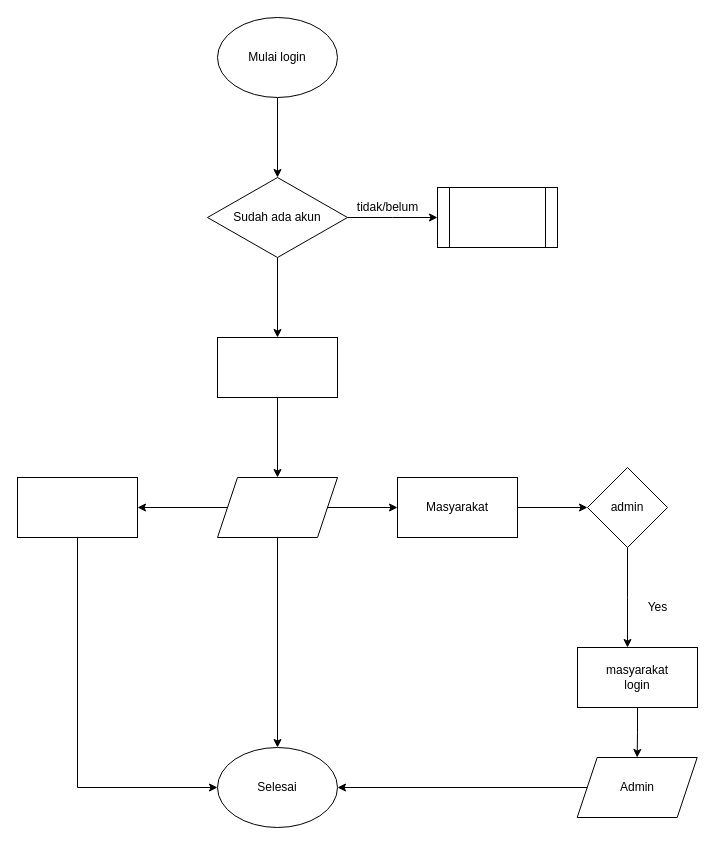
This 715x845 diagram has some shape labels left out. Here are the shapes that lost their labels. From the top down, the centre of each, then its label:
At [497,217]: "Registrasi".
At [277,367]: "Input usename dan pasword".
At [77,507]: "petugas".
At [277,507]: "sebagai apa?".
